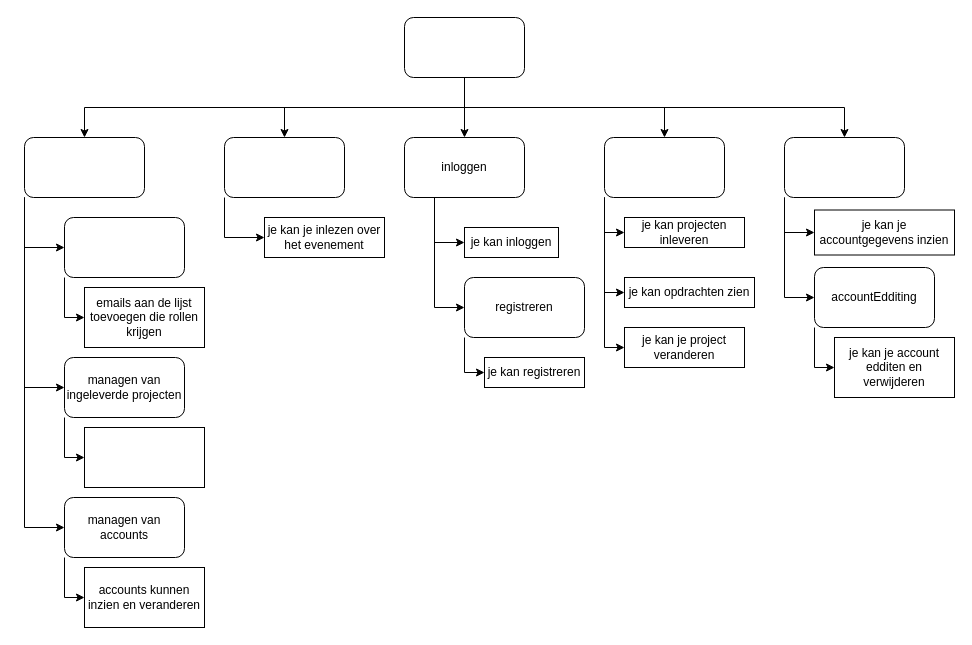
This 972x645 diagram has some shape labels left out. The shapes that lost their labels are listed below. From the top down, each one's box as (x1, y1, x2, y2) in pixels, then its label:
(404, 16, 524, 78): home
(24, 136, 144, 198): admin
(224, 136, 344, 198): info
(604, 136, 724, 198): commissies
(784, 136, 904, 198): accountInfo
(64, 216, 184, 278): email list voor rollen
(84, 426, 204, 488): ingeleverde projecten zien
